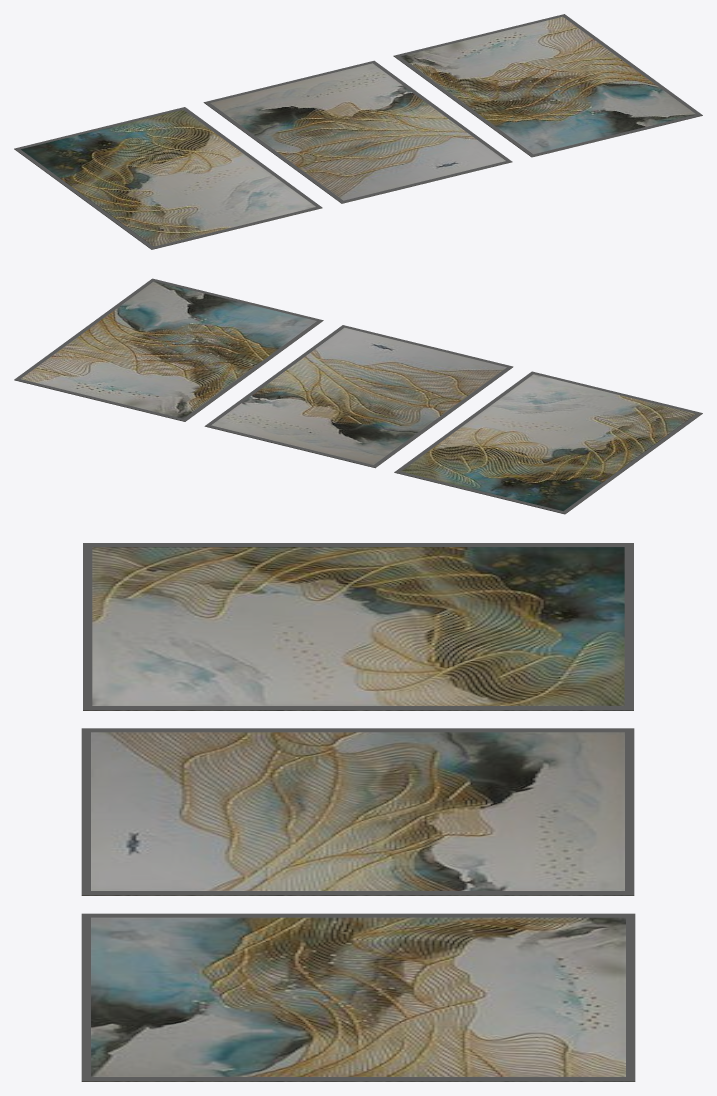
3 renders of one model, top to bottom at view 1: azimuth 30°, elevation 25°; view 2: azimuth 150°, elevation 25°; view 3: azimuth 270°, elevation 25°, orthographic. The views are drawn at different scales.
Parts seen in each view (by area): view 1: mesh_2_ROOT_Layer0_147_146_137_ss, mesh_1_ROOT_Layer0_30_30_30_ss; view 2: mesh_2_ROOT_Layer0_147_146_137_ss, mesh_1_ROOT_Layer0_30_30_30_ss; view 3: mesh_2_ROOT_Layer0_147_146_137_ss, mesh_1_ROOT_Layer0_30_30_30_ss.
Boxes of the visible parts, left/top/right/bottom form: mesh_2_ROOT_Layer0_147_146_137_ss: left=14, top=16, right=702, bottom=249; mesh_1_ROOT_Layer0_30_30_30_ss: left=14, top=14, right=702, bottom=249; mesh_2_ROOT_Layer0_147_146_137_ss: left=14, top=281, right=702, bottom=514; mesh_1_ROOT_Layer0_30_30_30_ss: left=14, top=278, right=702, bottom=513; mesh_2_ROOT_Layer0_147_146_137_ss: left=81, top=547, right=635, bottom=1081; mesh_1_ROOT_Layer0_30_30_30_ss: left=81, top=543, right=635, bottom=1080.
Bounding box in the file's own units: 22921 × 20 × 9972.
Materials: 3 (1 with a texture image).
